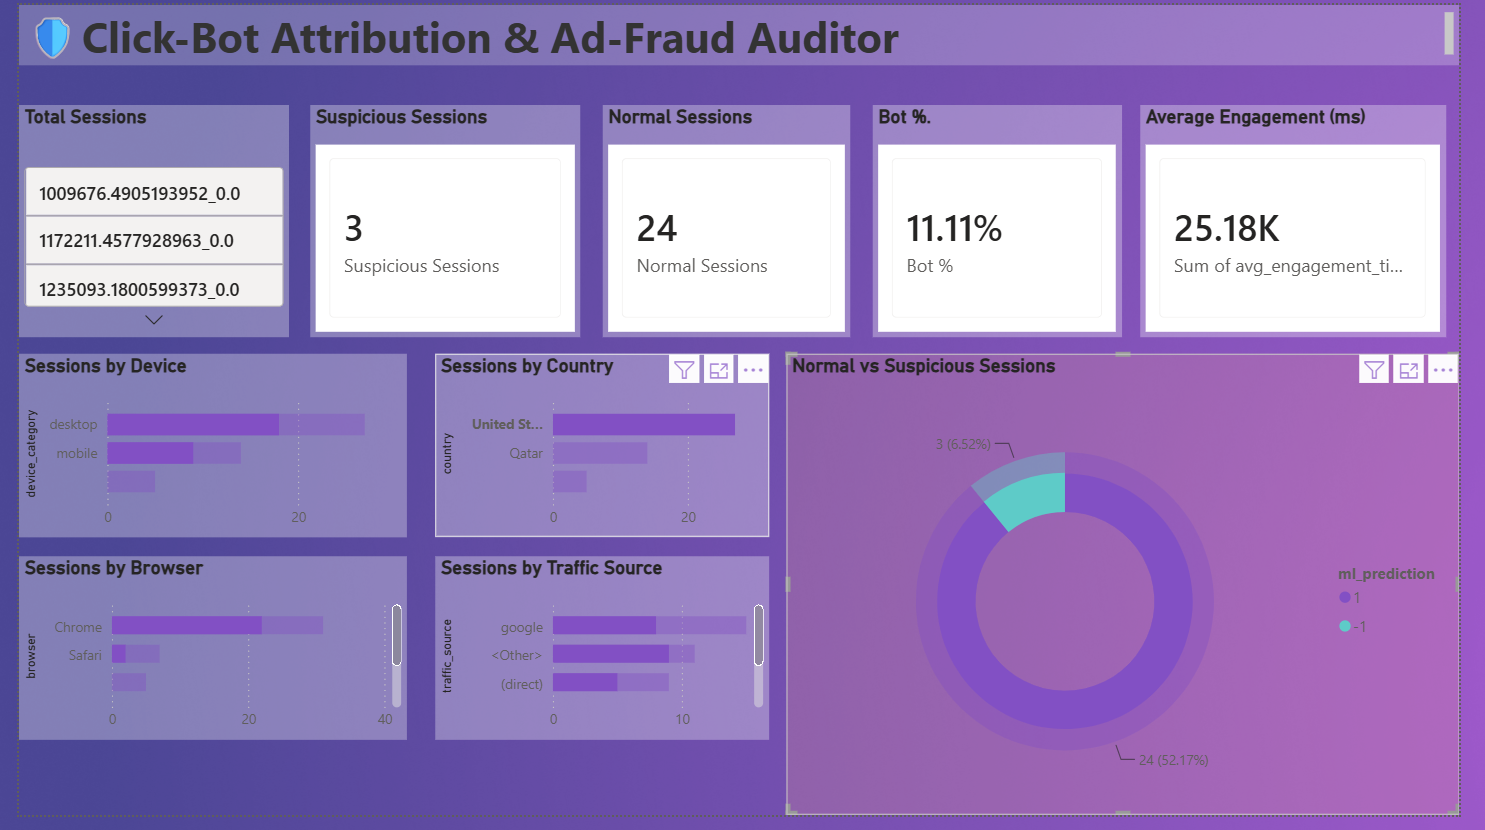

What the dashboard file says about the page in this screenshot:
{"tool":"powerbi","page":{"name":"Page 1","canvas":[1280,720],"ordinal":0},"visuals":[{"type":"cardVisual","title":"Total Sessions","fields":{"Rows":["session_ml_anomalies.session_id"]},"box":[0,88.3,240,206.7],"z":0},{"type":"cardVisual","title":"Suspicious Sessions","fields":{"Data":["session_ml_anomalies.Suspicious Sessions"]},"box":[258.3,88.3,240,206.7],"z":1000},{"type":"cardVisual","title":"Normal Sessions","fields":{"Data":["session_ml_anomalies.Normal Sessions"]},"box":[518.3,88.3,220,206.7],"z":2000},{"type":"cardVisual","title":"Average Engagement (ms)","fields":{"Data":["Sum(session_ml_anomalies.avg_engagement_time)"]},"box":[996.7,88.3,271.7,206.7],"z":3000},{"type":"cardVisual","title":"Bot %.","fields":{"Data":["session_ml_anomalies.Bot %"]},"box":[758.3,88.3,221.7,206.7],"z":4000},{"type":"donutChart","title":"Normal vs Suspicious Sessions","fields":{"Category":["session_ml_anomalies.ml_prediction"],"Y":["Count(session_ml_anomalies.session_id)"]},"box":[681.7,310,598.3,410],"z":5000},{"type":"clusteredBarChart","title":"Sessions by Device","fields":{"Category":["session_ml_anomalies.device_category"],"Y":["CountNonNull(session_ml_anomalies.session_id)"]},"box":[0,310,345,163.3],"z":6000},{"type":"clusteredBarChart","title":"Sessions by Country","fields":{"Category":["session_ml_anomalies.country"],"Y":["CountNonNull(session_ml_anomalies.session_id)"]},"box":[370,310,296.7,163.3],"z":7000},{"type":"clusteredBarChart","title":"Sessions by Browser","fields":{"Category":["session_ml_anomalies.browser"],"Y":["CountNonNull(session_ml_anomalies.session_id)"]},"box":[0,490,345,163.3],"z":8000},{"type":"clusteredBarChart","title":"Sessions by Traffic Source","fields":{"Category":["session_ml_anomalies.traffic_source"],"Y":["CountNonNull(session_ml_anomalies.session_id)"]},"box":[370,490,296.7,163.3],"z":9000},{"type":"textbox","box":[0,0,1280,53.3],"z":10001}]}

Visuals, with their boxes in screenshot pixels (x1, y1, x2, y2), scaled from the page's 1280x720 canvas onto the 1485x830 screenshot:
"Total Sessions" cardVisual: Rect(0, 102, 278, 340)
"Suspicious Sessions" cardVisual: Rect(300, 102, 578, 340)
"Normal Sessions" cardVisual: Rect(601, 102, 857, 340)
"Average Engagement (ms)" cardVisual: Rect(1156, 102, 1472, 340)
"Bot %." cardVisual: Rect(880, 102, 1137, 340)
"Normal vs Suspicious Sessions" donutChart: Rect(791, 357, 1484, 829)
"Sessions by Device" clusteredBarChart: Rect(0, 357, 400, 546)
"Sessions by Country" clusteredBarChart: Rect(429, 357, 773, 546)
"Sessions by Browser" clusteredBarChart: Rect(0, 565, 400, 753)
"Sessions by Traffic Source" clusteredBarChart: Rect(429, 565, 773, 753)
textbox: Rect(0, 0, 1484, 61)
